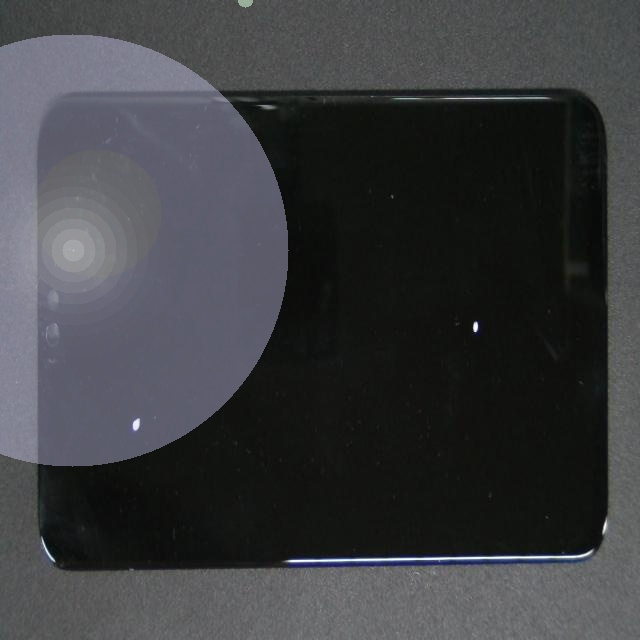stain: (247, 127, 640, 445), (54, 199, 191, 640)
